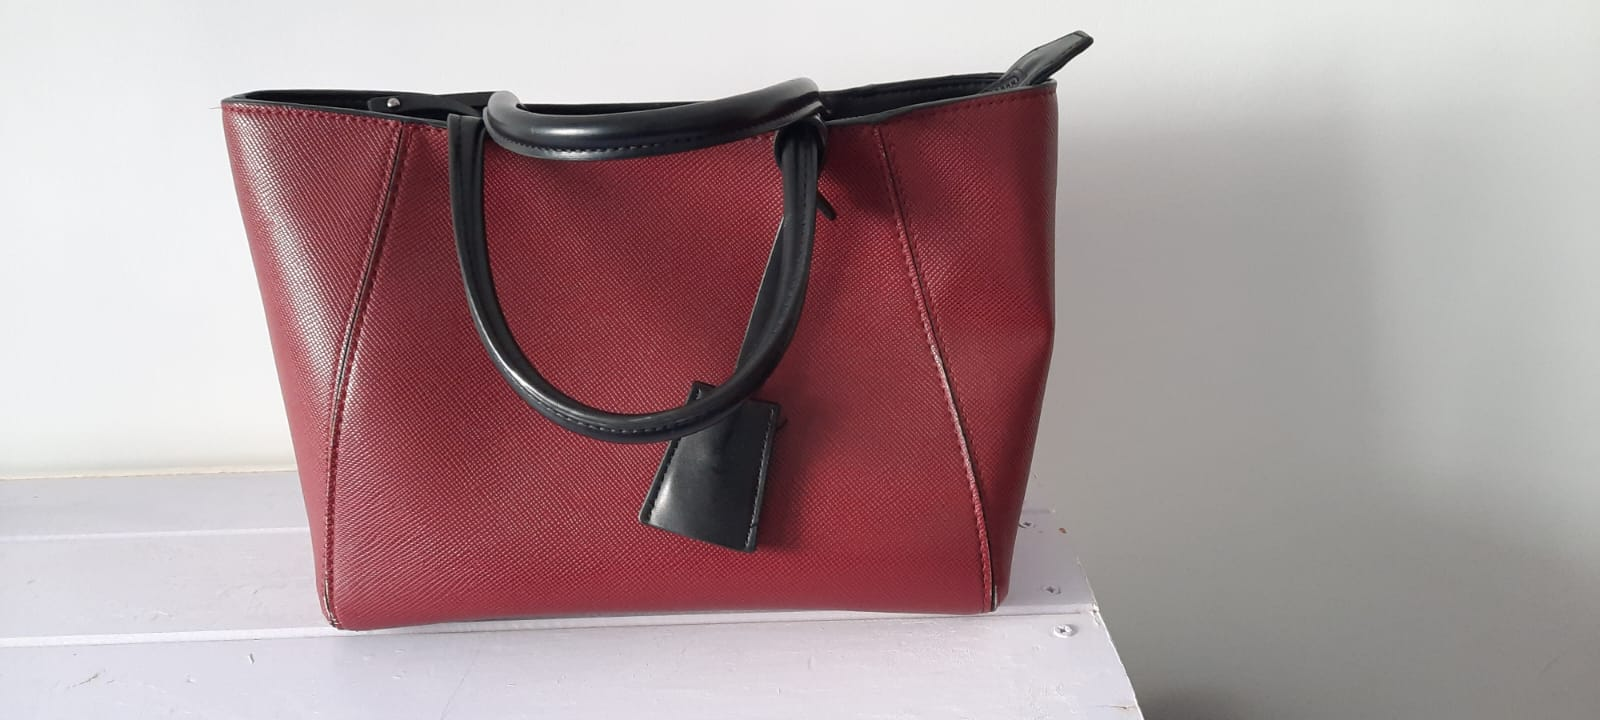cartera: (161, 20, 1165, 659)
cuero: (452, 255, 874, 494)
